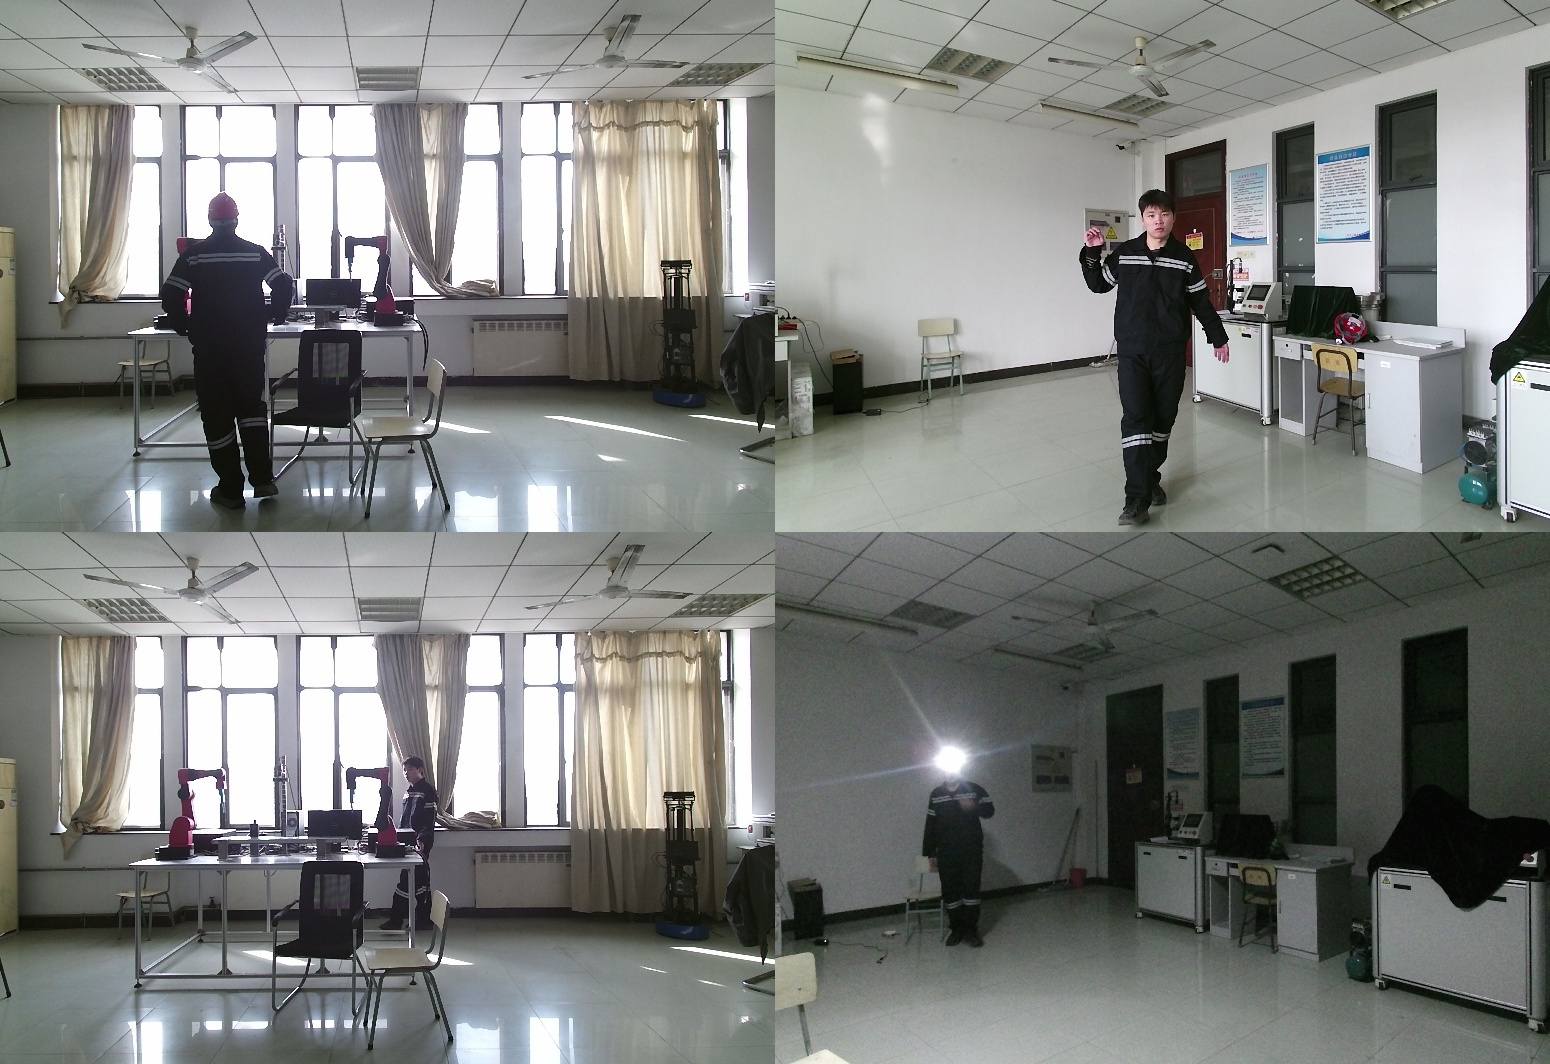person: (1080, 191, 1232, 521), (163, 194, 298, 506), (917, 753, 998, 962), (380, 757, 445, 939)
